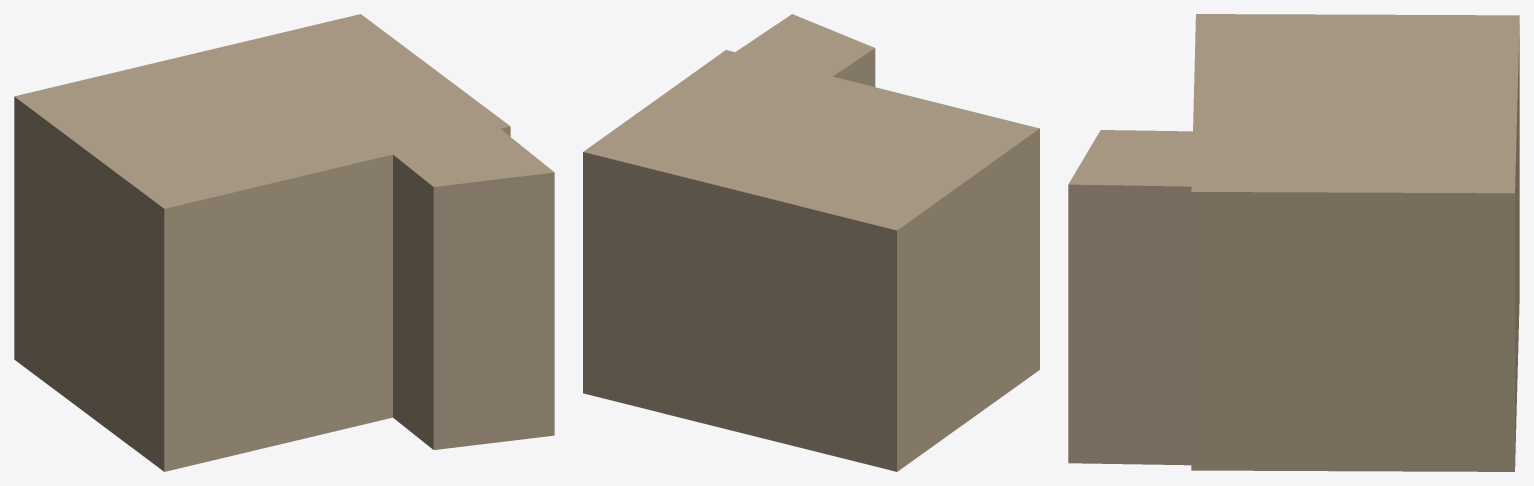
Rendered from bld_106796722.dae.
The picture shows the model from 3 angles, left to right: view 1: azimuth 30°, elevation 25°; view 2: azimuth 150°, elevation 25°; view 3: azimuth 270°, elevation 25°; orthographic projection. The views are drawn at different scales.
Parts seen in each view (by area): view 1: bld_106796722; view 2: bld_106796722; view 3: bld_106796722.
Boxes of the visible parts, bbox=[...] form: bld_106796722: bbox=[14, 14, 554, 471]; bld_106796722: bbox=[583, 14, 1039, 471]; bld_106796722: bbox=[1068, 14, 1519, 471].
Size of the model in its own units: 11.04 by 11.75 by 8.
